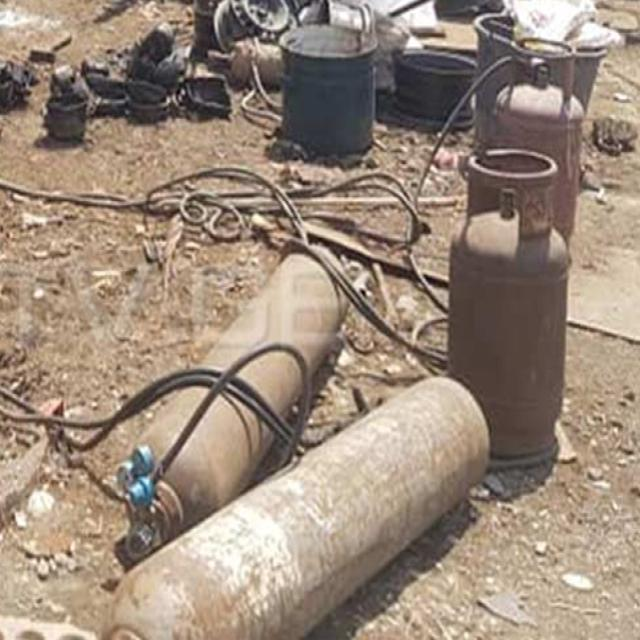cylinder: (125, 244, 351, 562), (448, 146, 568, 467)
